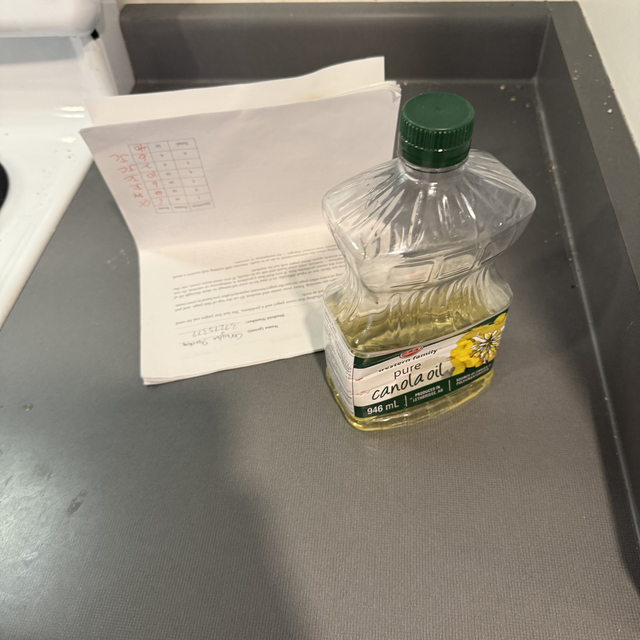Canola Oil: (337, 132, 504, 427)
Paper: (65, 78, 387, 373)
